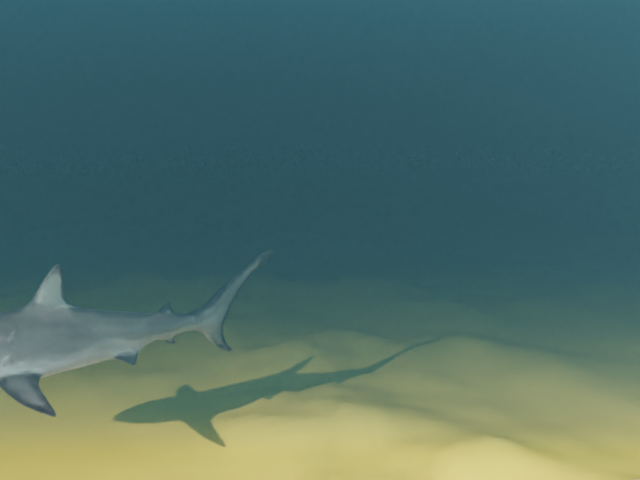Carribean Shark.001: (0, 249, 274, 416)
